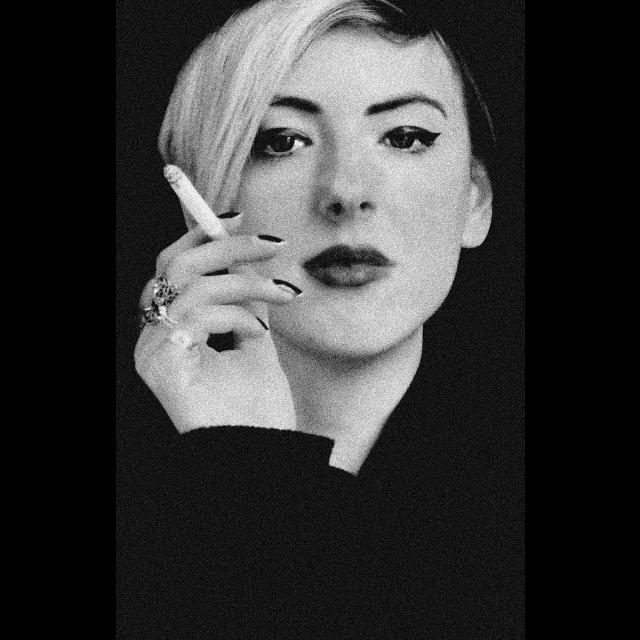rokok: (167, 166, 225, 244)
